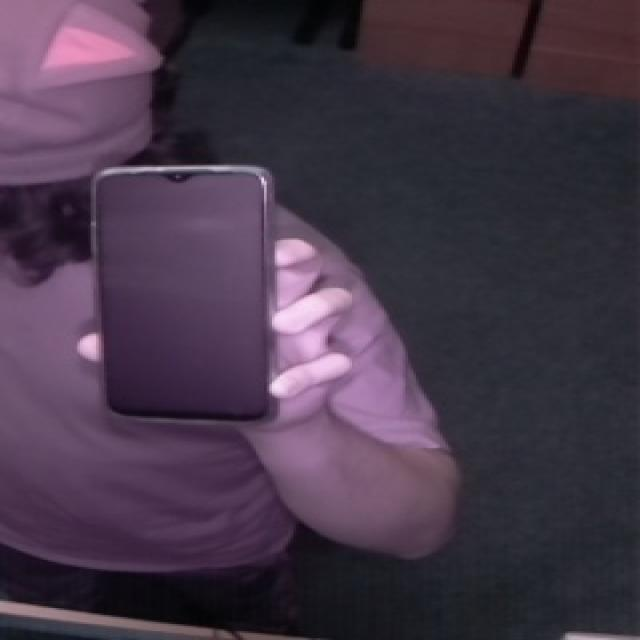phone: (83, 150, 289, 444)
